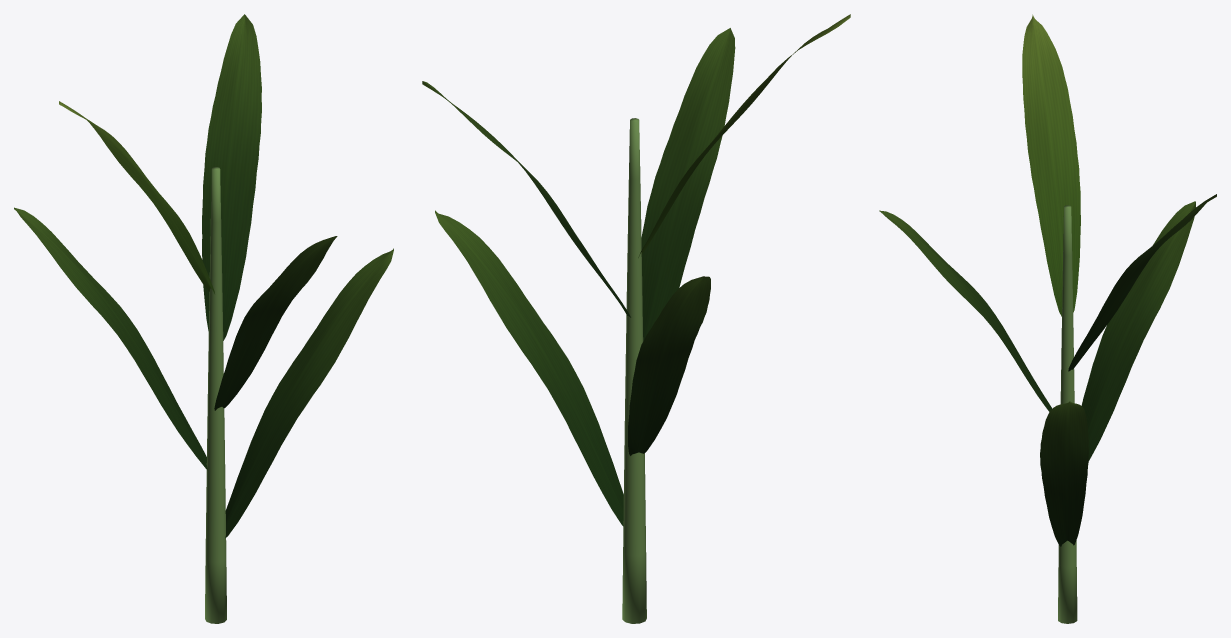
The model's file is iris-04.glb.
3 views of the same model, side by side, from view 1: azimuth 30°, elevation 25°; view 2: azimuth 150°, elevation 25°; view 3: azimuth 270°, elevation 25° (orthographic). The views are drawn at different scales.
Parts seen in each view (by area): view 1: iris_stage_04_leaf_veins.006, iris_stage_04_stem_fibres.006, iris_stage_04_young_leaf.006; view 2: iris_stage_04_leaf_veins.006, iris_stage_04_stem_fibres.006, iris_stage_04_young_leaf.006; view 3: iris_stage_04_leaf_veins.006, iris_stage_04_young_leaf.006, iris_stage_04_stem_fibres.006.
Boxes of the visible parts, left/top/right/bottom form: iris_stage_04_leaf_veins.006: left=14, top=14, right=393, bottom=537; iris_stage_04_stem_fibres.006: left=205, top=167, right=226, bottom=623; iris_stage_04_young_leaf.006: left=59, top=101, right=214, bottom=293; iris_stage_04_leaf_veins.006: left=422, top=28, right=735, bottom=526; iris_stage_04_stem_fibres.006: left=622, top=118, right=646, bottom=623; iris_stage_04_young_leaf.006: left=638, top=14, right=850, bottom=257; iris_stage_04_leaf_veins.006: left=879, top=194, right=1216, bottom=546; iris_stage_04_young_leaf.006: left=1022, top=14, right=1080, bottom=316; iris_stage_04_stem_fibres.006: left=1058, top=205, right=1077, bottom=623.
Bounding box in the file's own units: 0.1467 × 0.2271 × 0.132.
Materials: 3 (2 with a texture image).
